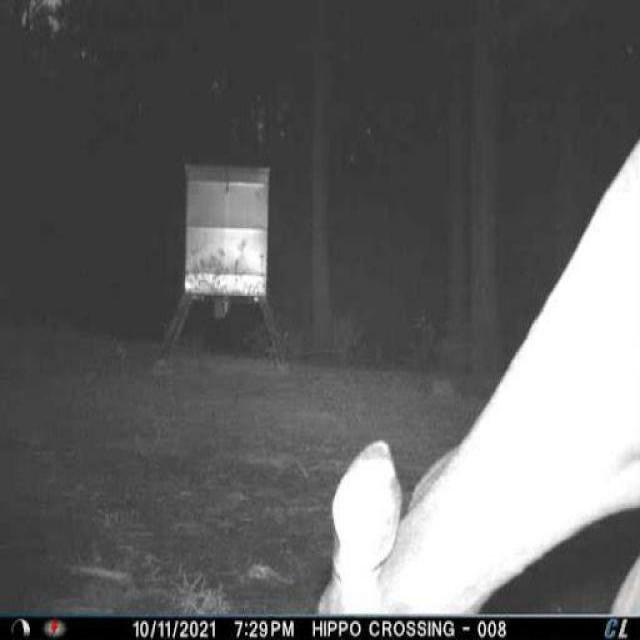deer: (308, 132, 638, 617)
